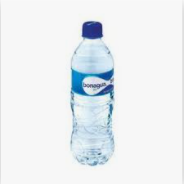Bottle: (70, 21, 118, 168)
